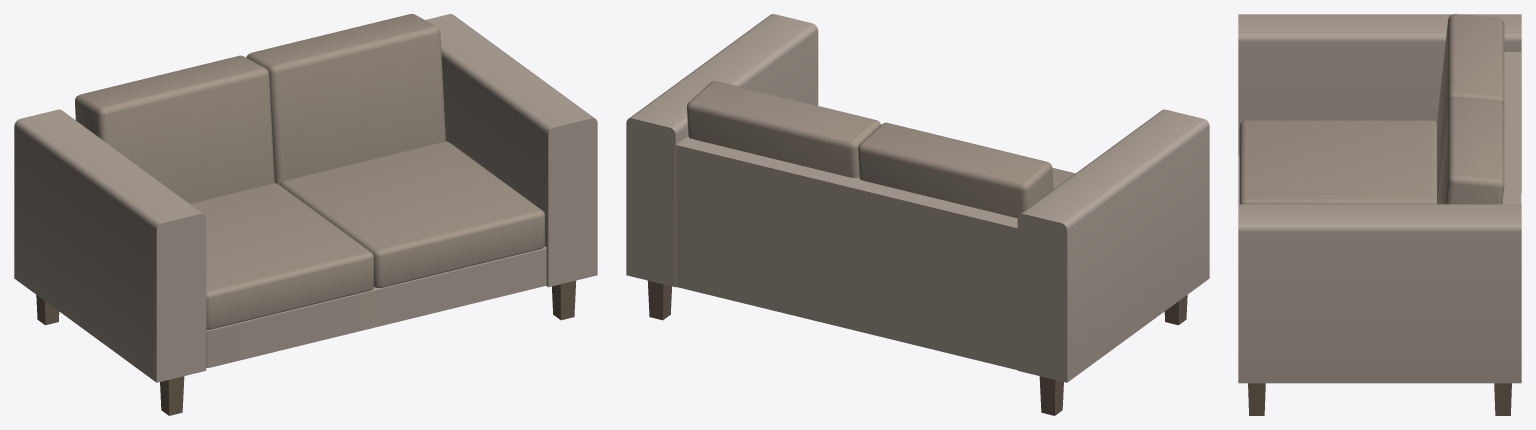
Rendered from Sofa5_C2.fbx.
The picture shows the model from 3 angles, left to right: view 1: azimuth 30°, elevation 25°; view 2: azimuth 150°, elevation 25°; view 3: azimuth 270°, elevation 25°; orthographic projection.
Visible parts, largest first — view 1: Sofa5_C2; view 2: Sofa5_C2; view 3: Sofa5_C2.
Part boxes in pixels (<box>): Sofa5_C2: <box>14,14,597,415</box>; Sofa5_C2: <box>626,14,1209,415</box>; Sofa5_C2: <box>1238,14,1521,415</box>.
Size of the model in its own units: 179 by 86.76 by 100.
